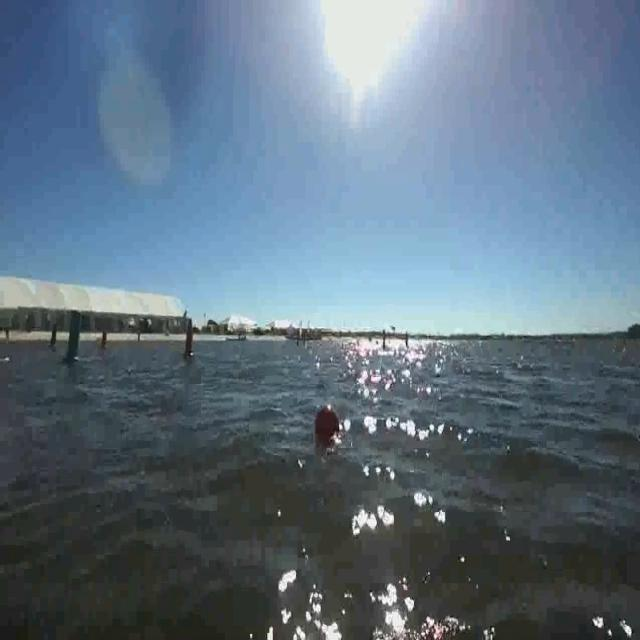green-column-buoy: (63, 314, 86, 366), (50, 324, 61, 353)
red-buoy: (314, 404, 340, 444)
red-column-buoy: (181, 320, 196, 362), (98, 329, 107, 352)
